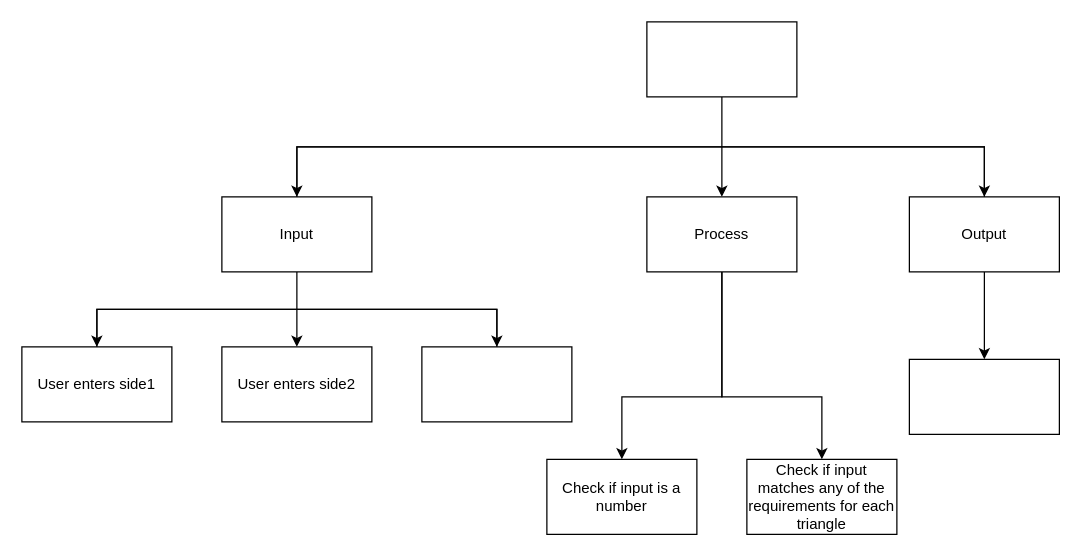
Image size: 1081x556. Some labels were removed from this diagram. Here are the shapes that lost their labels. From the top down, the box of each, then its label:
(646, 21, 797, 97): Triangle Identifier
(421, 346, 572, 422): User enters side3
(908, 358, 1059, 434): Show what triangle the input results
